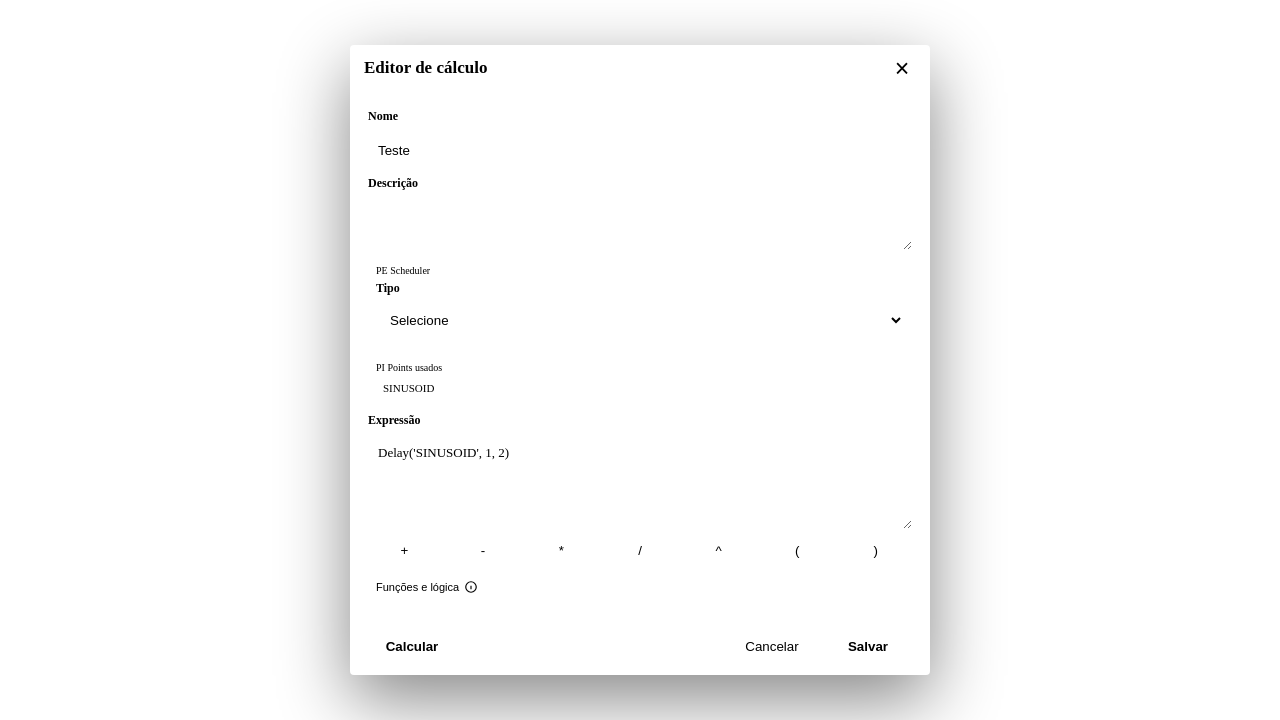
Test: não envia Arma, Delay ou Impulse ao Controller sem Scheduler Context
Click the button with test id "calculation-editor-execute": (412, 647) [368, 631, 456, 663]
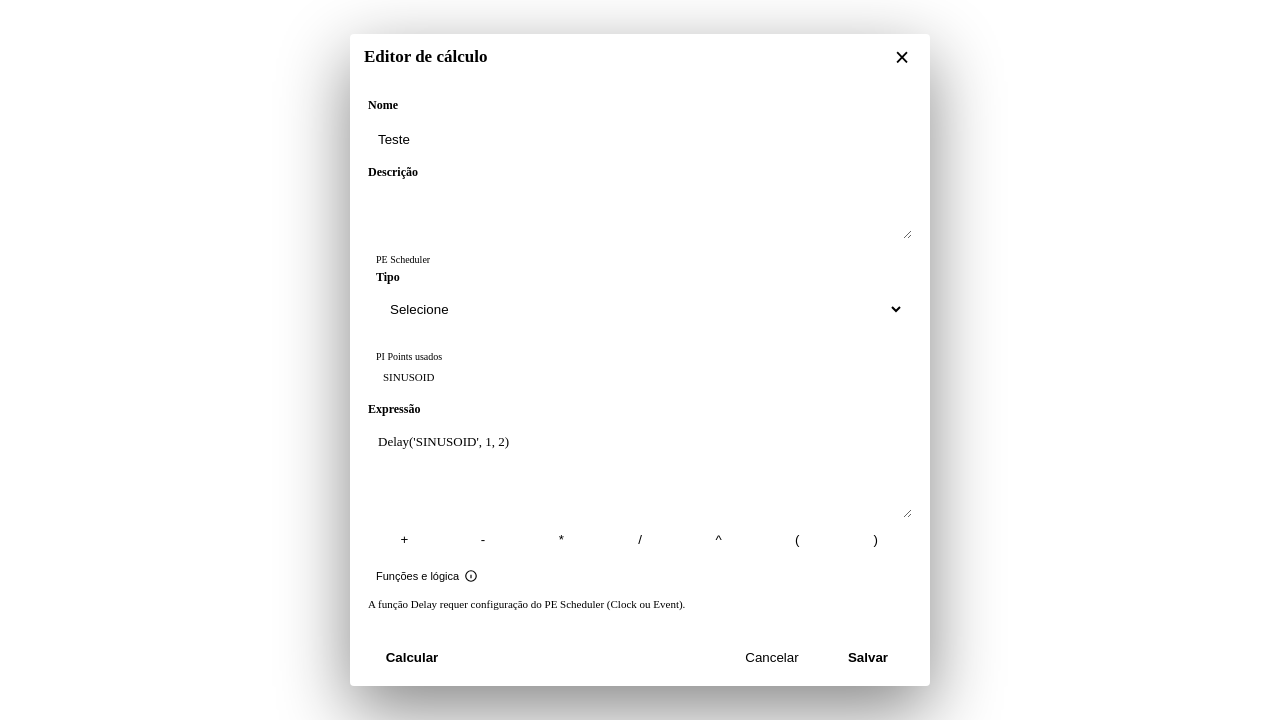
Now the message shows "requer configuração do PE Scheduler", box [368, 598, 685, 610]
